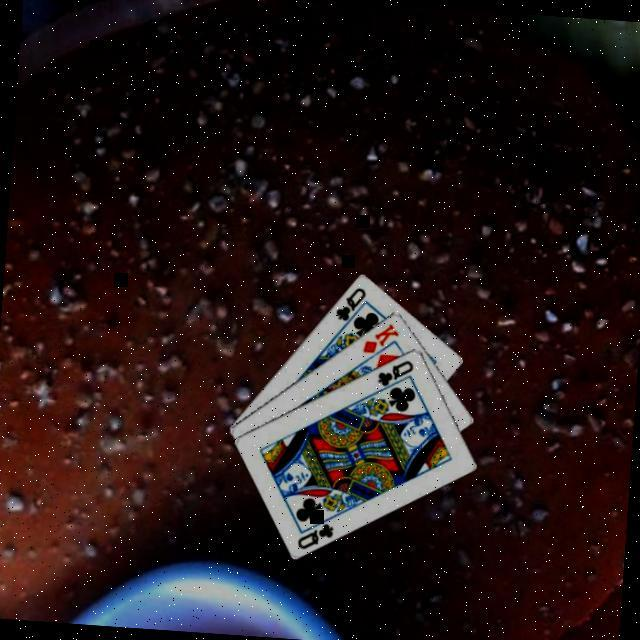KD: (356, 320, 400, 359)
QC: (330, 284, 367, 326), (372, 356, 414, 392), (293, 520, 335, 556)
